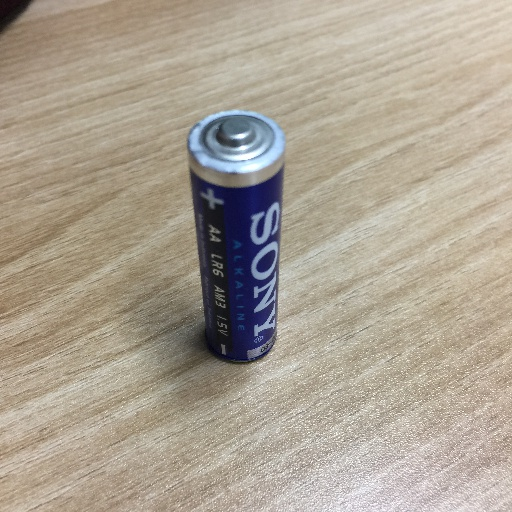Battery_0: (185, 101, 296, 373)
